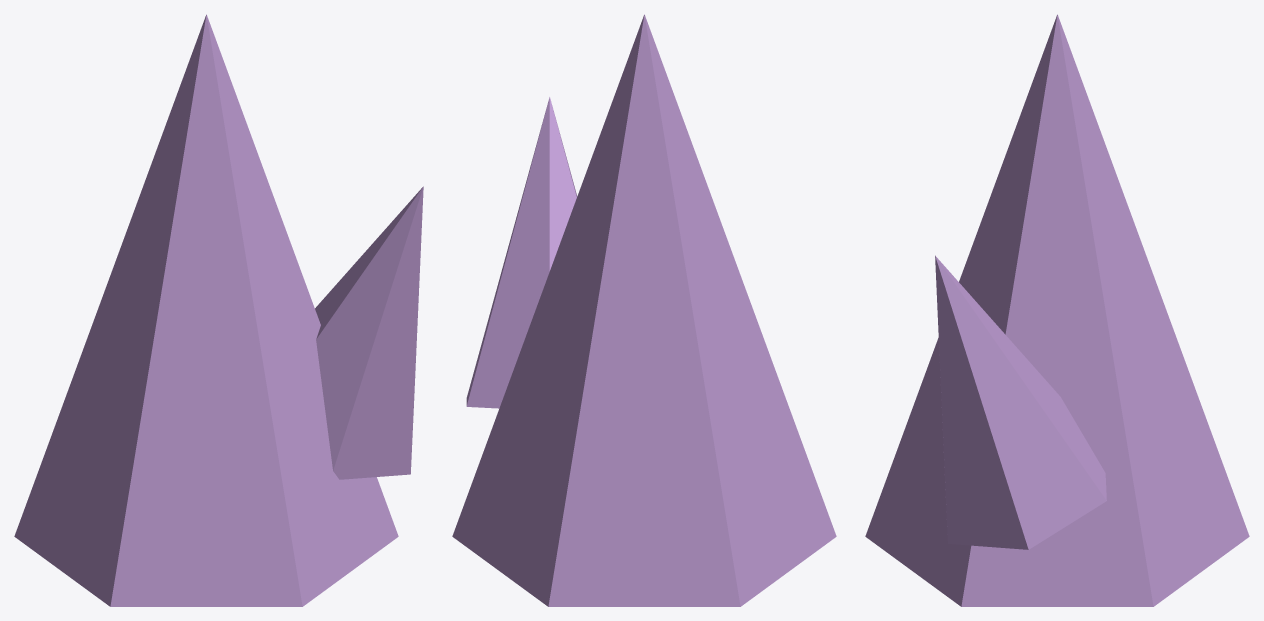
The model's file is SM_Item_Shard_01.glb.
The picture shows the model from 3 angles, left to right: view 1: azimuth 30°, elevation 25°; view 2: azimuth 150°, elevation 25°; view 3: azimuth 270°, elevation 25°; orthographic projection.
Visible parts, largest first — view 1: SM_Shard_Main, SM_Shard_Sub; view 2: SM_Shard_Main, SM_Shard_Sub; view 3: SM_Shard_Main, SM_Shard_Sub.
Part boxes in pixels (x1,y1,x2,y2): SM_Shard_Main: [14, 14, 398, 606]; SM_Shard_Sub: [315, 186, 423, 479]; SM_Shard_Main: [452, 14, 836, 606]; SM_Shard_Sub: [466, 97, 577, 408]; SM_Shard_Main: [865, 14, 1249, 606]; SM_Shard_Sub: [935, 255, 1106, 549].
Bounding box in the file's own units: 0.2022 × 0.3 × 0.2.
